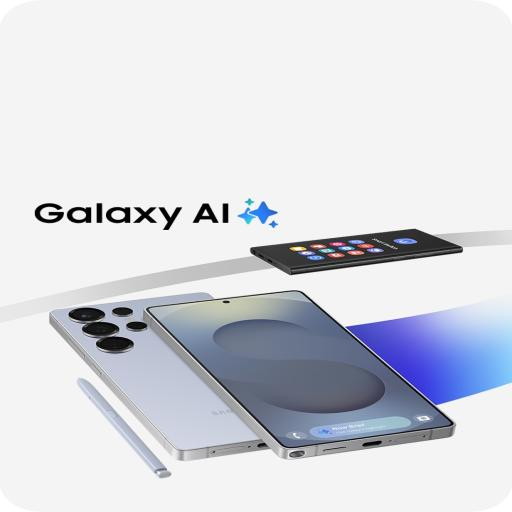phone: (151, 293, 457, 470)
